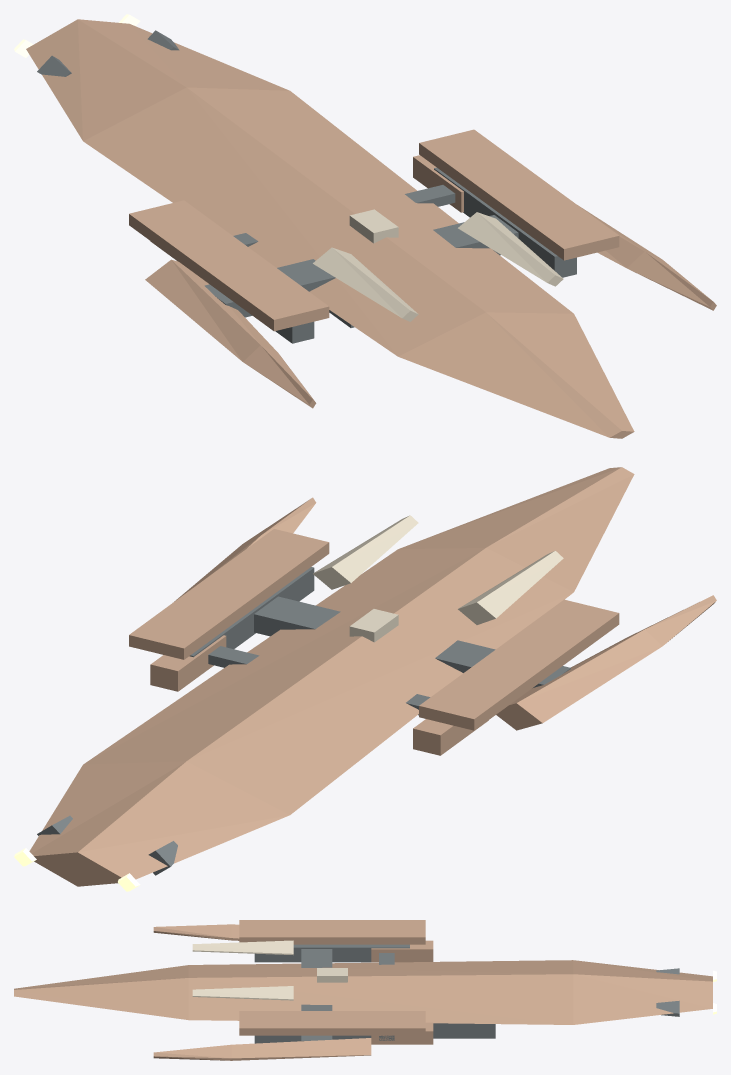
The picture shows the model from 3 angles, top to bottom: view 1: azimuth 30°, elevation 25°; view 2: azimuth 150°, elevation 25°; view 3: azimuth 270°, elevation 25°; orthographic projection. The views are drawn at different scales.
Bounding box in the file's own units: 7.3 × 1.62 × 16.47.
